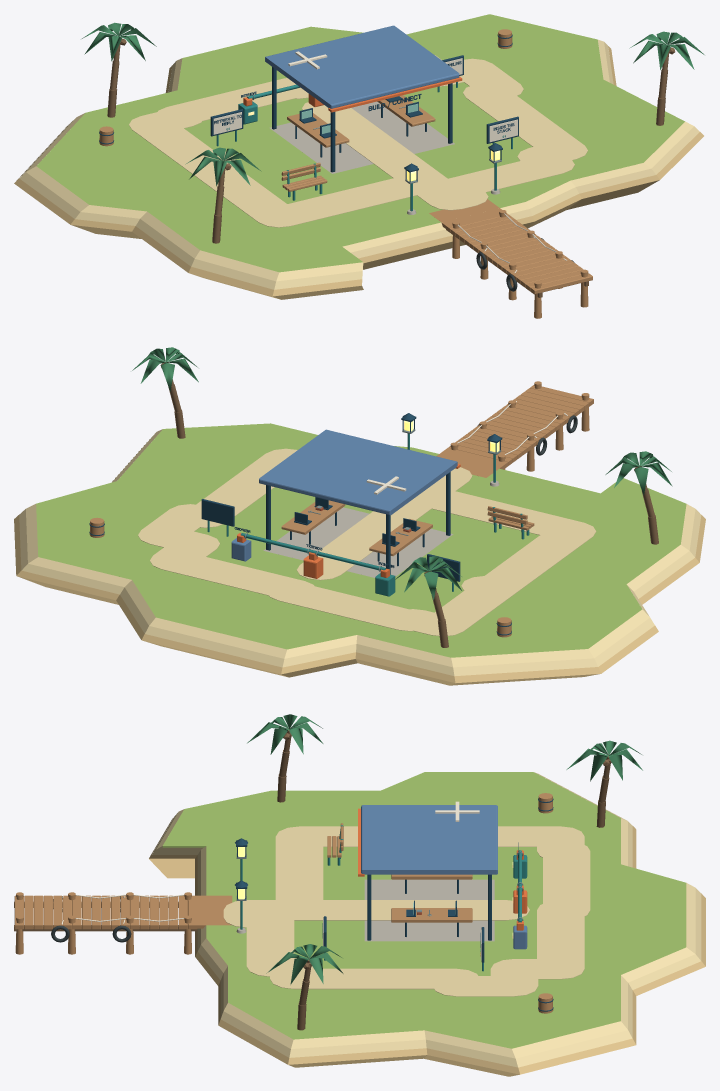
The model's file is beaconfire.glb.
3 renders of one model, top to bottom at view 1: azimuth 30°, elevation 25°; view 2: azimuth 150°, elevation 25°; view 3: azimuth 270°, elevation 25°, orthographic. The views are drawn at different scales.
Visible parts, largest first — view 1: static_grass, static_sand, static_wood, occluder_beaconfire_roof_blue, static_sandEdge, static_stone, static_navy, occluder_beaconfire_tree_4_leaf, occluder_beaconfire_tree_16_leaf, occluder_beaconfire_tree_8_leaf, static_teal, occluder_beaconfire_roof_orange (+4 smaller); view 2: static_grass, static_sand, static_wood, occluder_beaconfire_roof_blue, static_sandEdge, static_stone, static_navy, static_teal, occluder_beaconfire_tree_4_leaf, occluder_beaconfire_tree_8_leaf, occluder_beaconfire_tree_16_leaf, station_pipeline_navy; view 3: static_grass, static_sand, static_wood, occluder_beaconfire_roof_blue, static_sandEdge, static_stone, static_navy, occluder_beaconfire_tree_4_leaf, occluder_beaconfire_tree_8_leaf, occluder_beaconfire_tree_16_leaf, static_teal, static_darkWood.
Boxes of the visible parts, x1,y1,x2,y2 form: static_grass: (36,14,684,272); static_sand: (19,39,699,289); static_wood: (99,29,592,318); occluder_beaconfire_roof_blue: (265,25,459,108); static_sandEdge: (14,46,703,299); static_stone: (269,101,500,214); static_navy: (99,34,512,182); occluder_beaconfire_tree_4_leaf: (185,147,261,186); occluder_beaconfire_tree_16_leaf: (629,31,704,69); occluder_beaconfire_tree_8_leaf: (82,22,156,61); static_teal: (238,84,496,211); occluder_beaconfire_roof_orange: (328,76,462,112); static_grass: (36,423,686,657); static_sand: (19,429,701,676); static_wood: (89,381,593,637); occluder_beaconfire_roof_blue: (259,429,457,515); static_sandEdge: (14,439,705,685); static_stone: (263,480,499,577); static_navy: (89,413,511,635); static_teal: (240,433,529,596); occluder_beaconfire_tree_4_leaf: (605,451,672,495); occluder_beaconfire_tree_8_leaf: (395,556,461,600); occluder_beaconfire_tree_16_leaf: (132,347,198,391); station_pipeline_navy: (201,499,234,526); static_grass: (162,772,686,1048); static_sand: (152,772,701,1067); static_wood: (14,793,553,1013); occluder_beaconfire_roof_blue: (361,805,497,874); static_sandEdge: (149,816,705,1076); static_stone: (236,879,494,941); static_navy: (235,798,553,1011); occluder_beaconfire_tree_4_leaf: (247,714,323,754); occluder_beaconfire_tree_8_leaf: (566,740,642,781); occluder_beaconfire_tree_16_leaf: (266,944,343,984); static_teal: (240,825,527,929); static_darkWood: (14,901,197,931).
Size of the model in its own units: 30 by 5.5 by 29.8.
